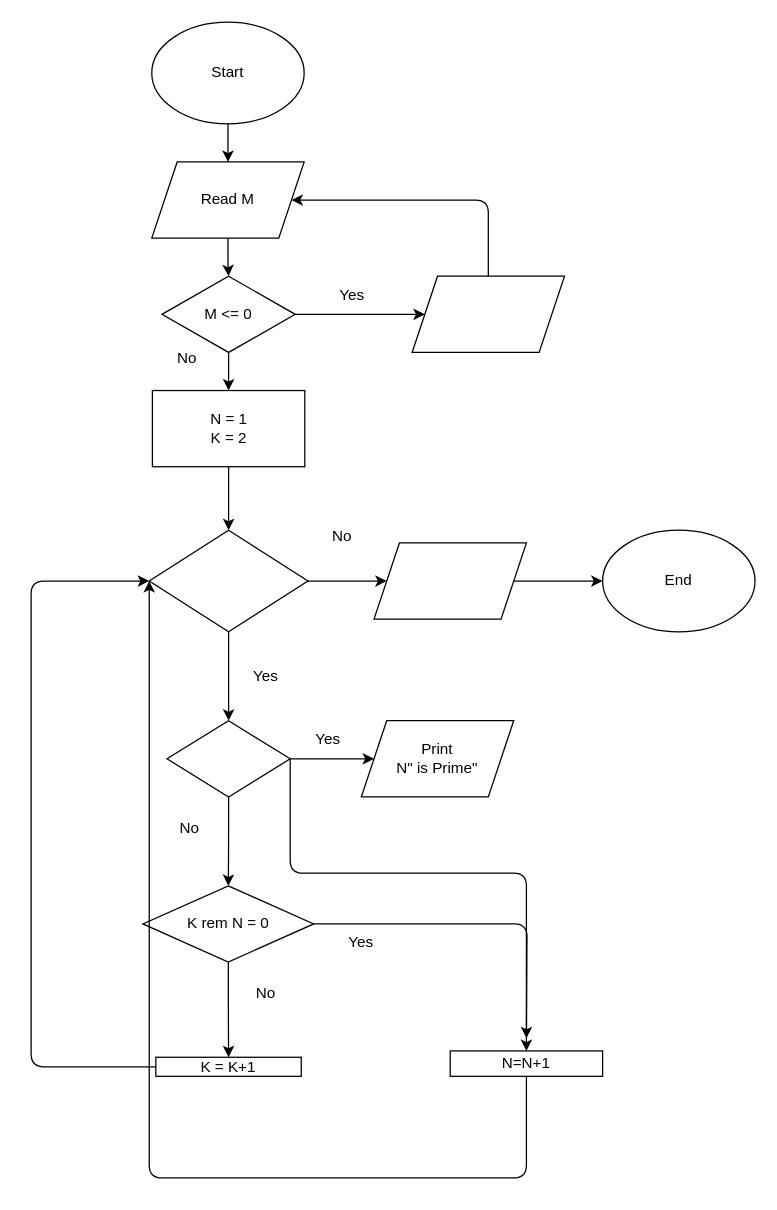
The diagram is 777 pixels wide and 1210 high, and some of its shapes have lost their labels. Here are the shapes that lost their labels. From the top down, the centre of each, then its label:
(488,313): Print "Please enter a new num"
(228,580): N <= m
(449,580): Print "Error"
(228,758): K >sqrt(N)
